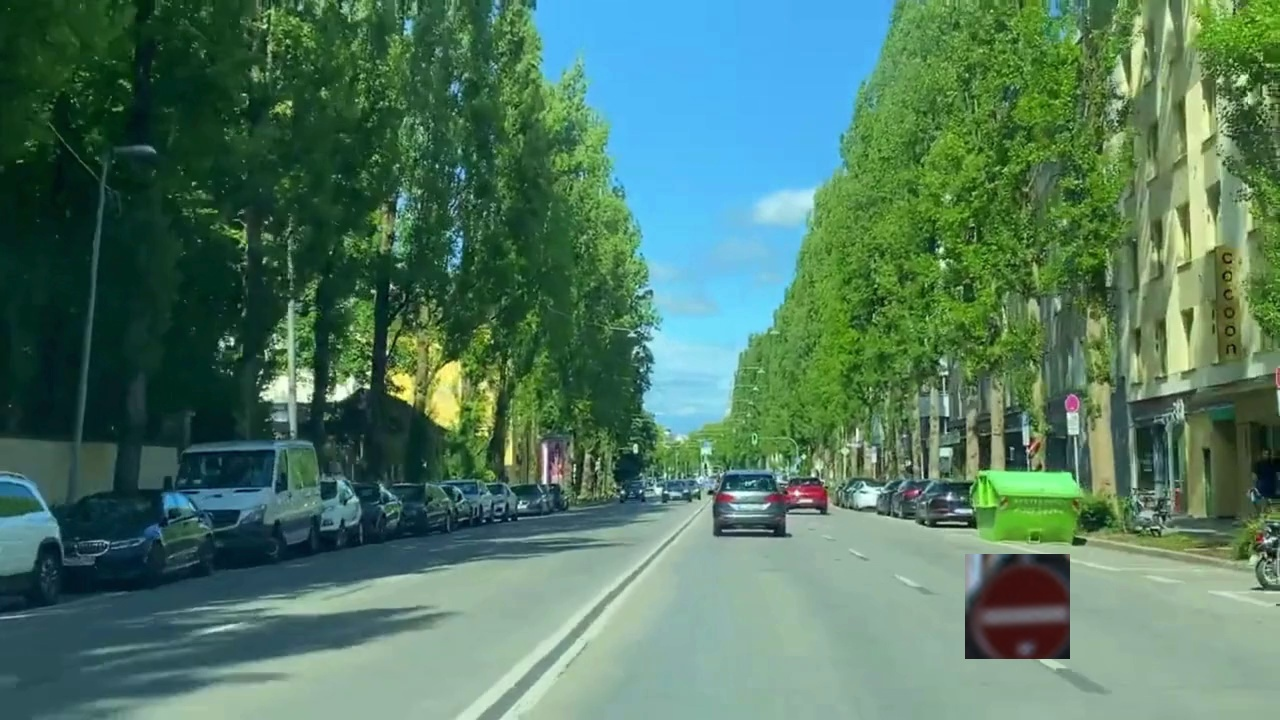No entry: (965, 554, 1070, 659)
